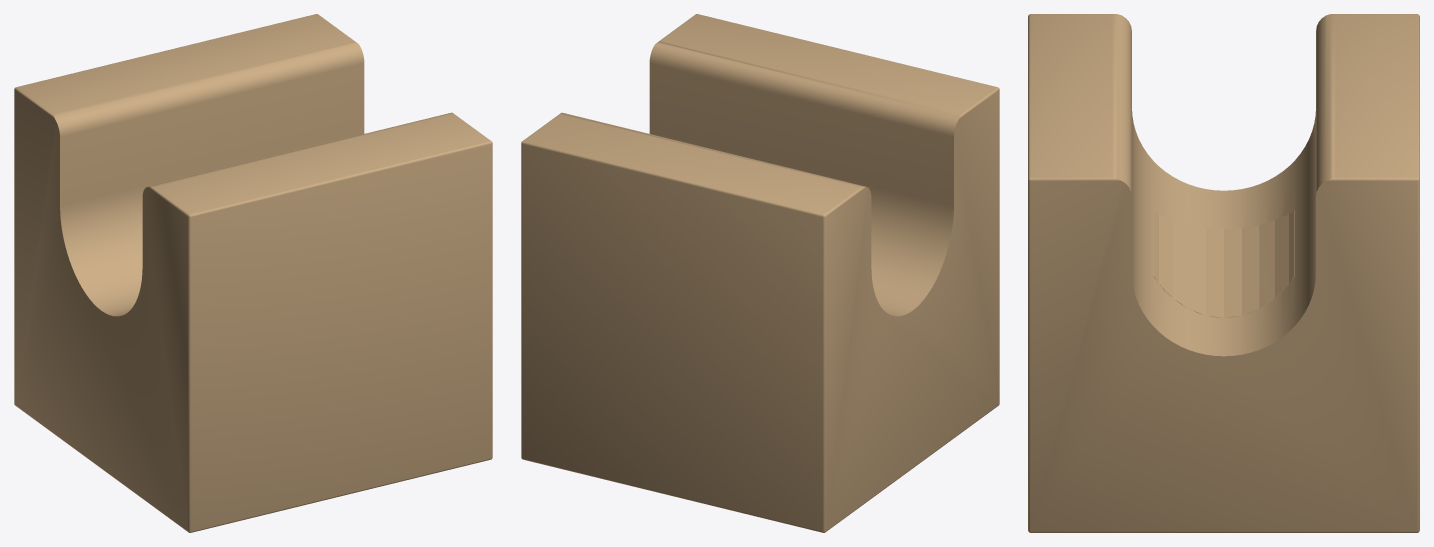
File: mech_hole_oneway_l2.glb
3 views of the same model, side by side, from view 1: azimuth 30°, elevation 25°; view 2: azimuth 150°, elevation 25°; view 3: azimuth 270°, elevation 25° (orthographic). The views are drawn at different scales.
Parts seen in each view (by area): view 1: mech_hole_oneway_l2_lod0; view 2: mech_hole_oneway_l2_lod0; view 3: mech_hole_oneway_l2_lod0, anim_trapdoor_lod0.
Part boxes in pixels (box(x1,y1,x2,y2)): mech_hole_oneway_l2_lod0: box(14, 14, 492, 532); mech_hole_oneway_l2_lod0: box(521, 14, 999, 532); mech_hole_oneway_l2_lod0: box(1028, 14, 1419, 532); anim_trapdoor_lod0: box(1153, 211, 1294, 317).
Size of what is drawn, in the model's own units: 0.0596 by 0.0596 by 0.0596.
